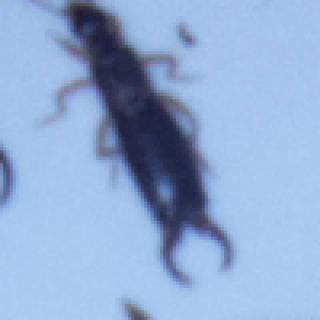earwig: (34, 0, 238, 286)
